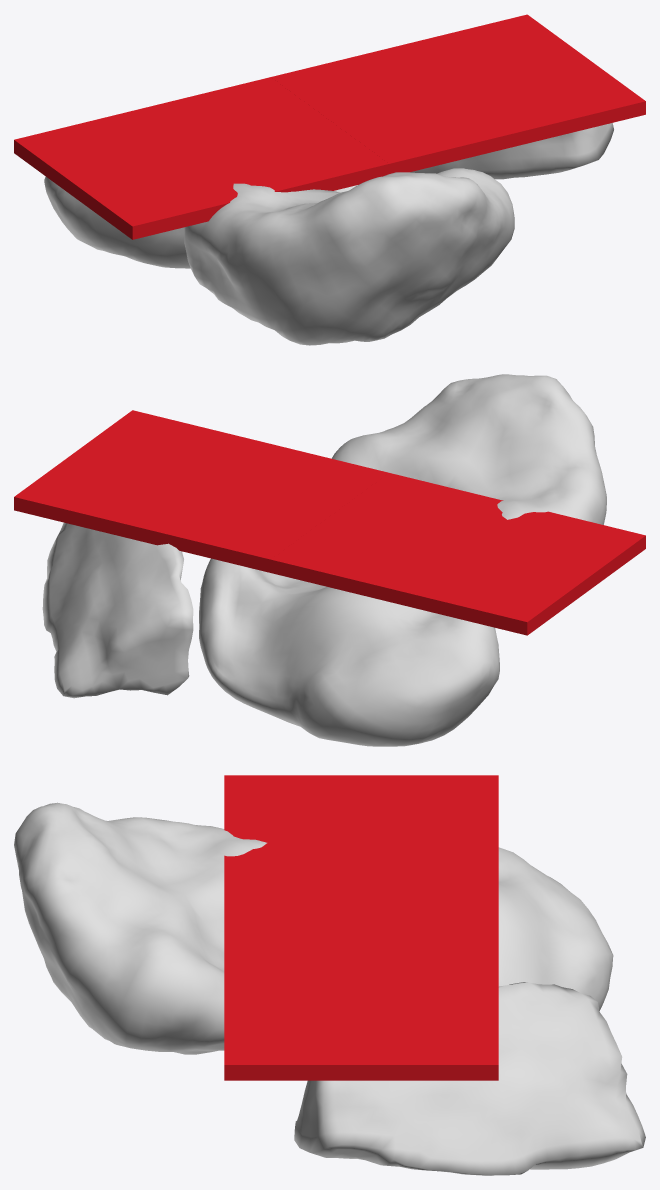
Rendered from Rochas.fbx.
The picture shows the model from 3 angles, top to bottom: view 1: azimuth 30°, elevation 25°; view 2: azimuth 150°, elevation 25°; view 3: azimuth 270°, elevation 25°; orthographic projection. The views are drawn at different scales.
Parts seen in each view (by area): view 1: rock.009, Cube.080, Cube.081, Rocha, rock.010; view 2: rock.010, Cube.081, Cube.080, rock.009, Rocha; view 3: Cube.080, rock.009, Rocha, Cube.081, rock.010.
Part boxes in pixels (x1=…): rock.009: x1=184, y1=168, x2=514, y2=345; Cube.080: x1=271, y1=14, x2=645, y2=173; Cube.081: x1=14, y1=77, x2=389, y2=239; Rocha: x1=410, y1=123, x2=613, y2=179; rock.010: x1=44, y1=176, x2=357, y2=268; rock.010: x1=199, y1=558, x2=499, y2=746; Cube.081: x1=270, y1=473, x2=645, y2=635; Cube.080: x1=14, y1=410, x2=388, y2=572; rock.009: x1=332, y1=374, x2=606, y2=524; Rocha: x1=42, y1=522, x2=193, y2=698; Cube.080: x1=224, y1=920, x2=498, y2=1080; rock.009: x1=14, y1=802, x2=266, y2=1054; Rocha: x1=294, y1=982, x2=645, y2=1175; Cube.081: x1=224, y1=775, x2=498, y2=920; rock.010: x1=498, y1=847, x2=613, y2=1010.
Size of the model in its own units: 1154 by 466 by 1037.
